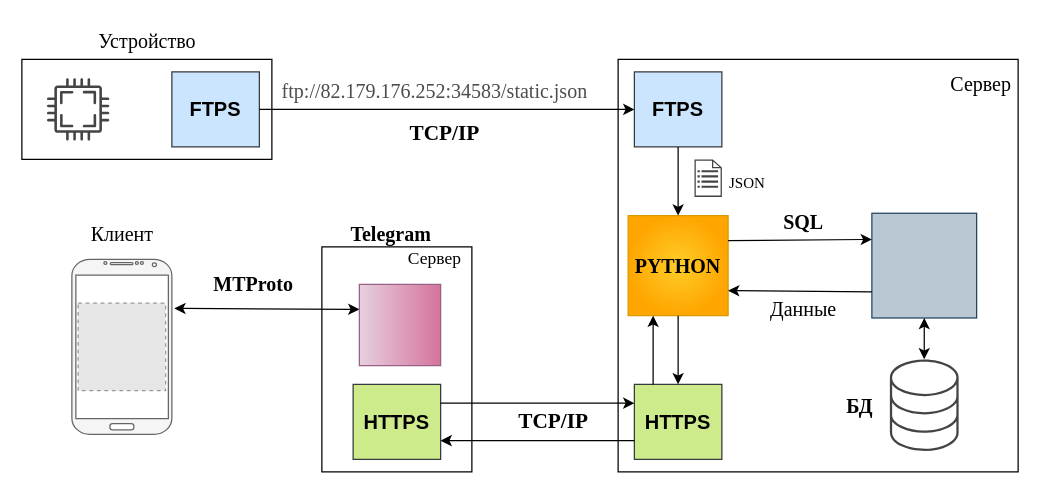
Some shapes in this 1040 by 494 pixel diagram are drawn without their labels. Grey dashed boxes stand in for pictures. Each missing label, with the centre of its shape:
API: the point at 399,324
MySQL: the point at 924,265
